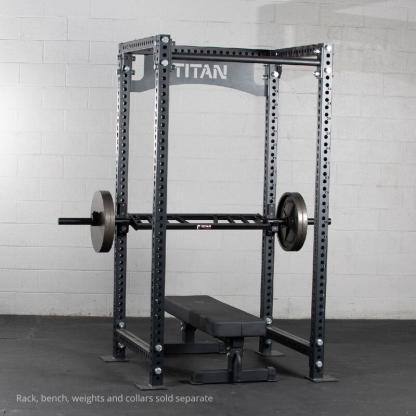Barbell: (56, 208, 67, 234)
